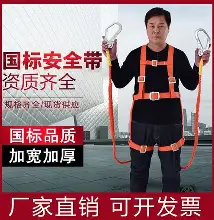safety belt: (126, 45, 188, 154)
